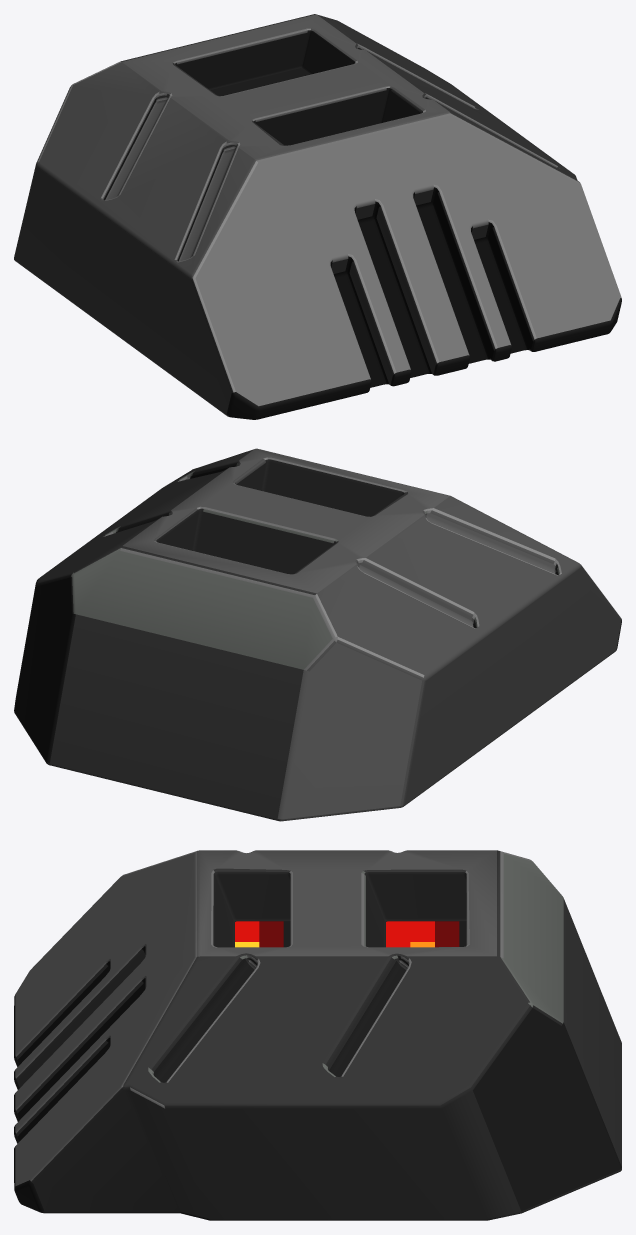
Rendered from slit_bunker_43.glb.
3 views of the same model, one above another, from view 1: azimuth 30°, elevation 25°; view 2: azimuth 150°, elevation 25°; view 3: azimuth 270°, elevation 25° (orthographic). The views are drawn at different scales.
Parts seen in each view (by area): view 1: slit_bunker_43; view 2: slit_bunker_43; view 3: slit_bunker_43.
Part boxes in pixels (bbox=[...]): slit_bunker_43: bbox=[14, 14, 621, 419]; slit_bunker_43: bbox=[14, 448, 621, 821]; slit_bunker_43: bbox=[14, 850, 621, 1220].
Bounding box in the file's own units: 20.7 × 9 × 24.17.
